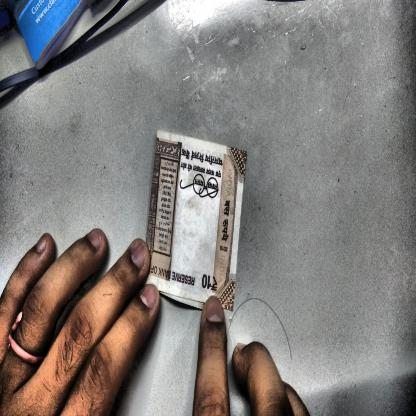Rs10: (199, 272, 220, 297)
